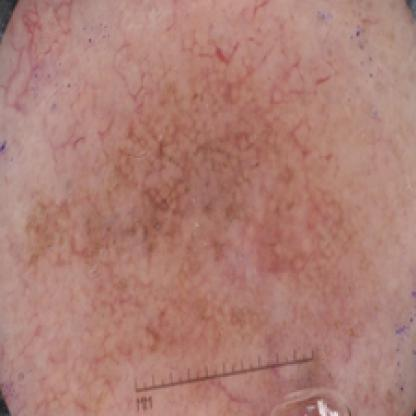malignant: (112, 86, 322, 284)
